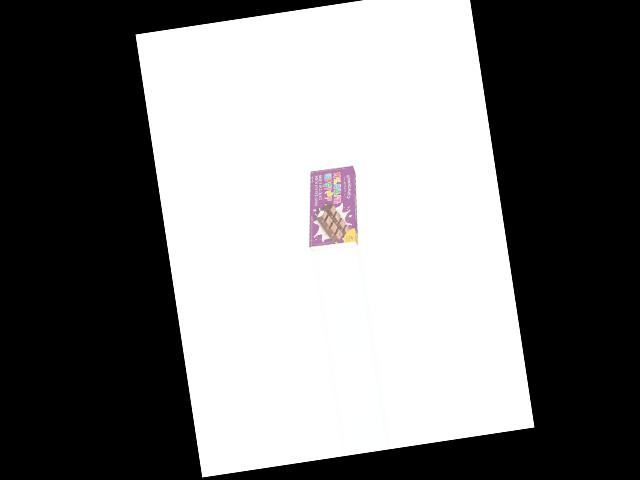chocolate: (301, 159, 366, 253)
